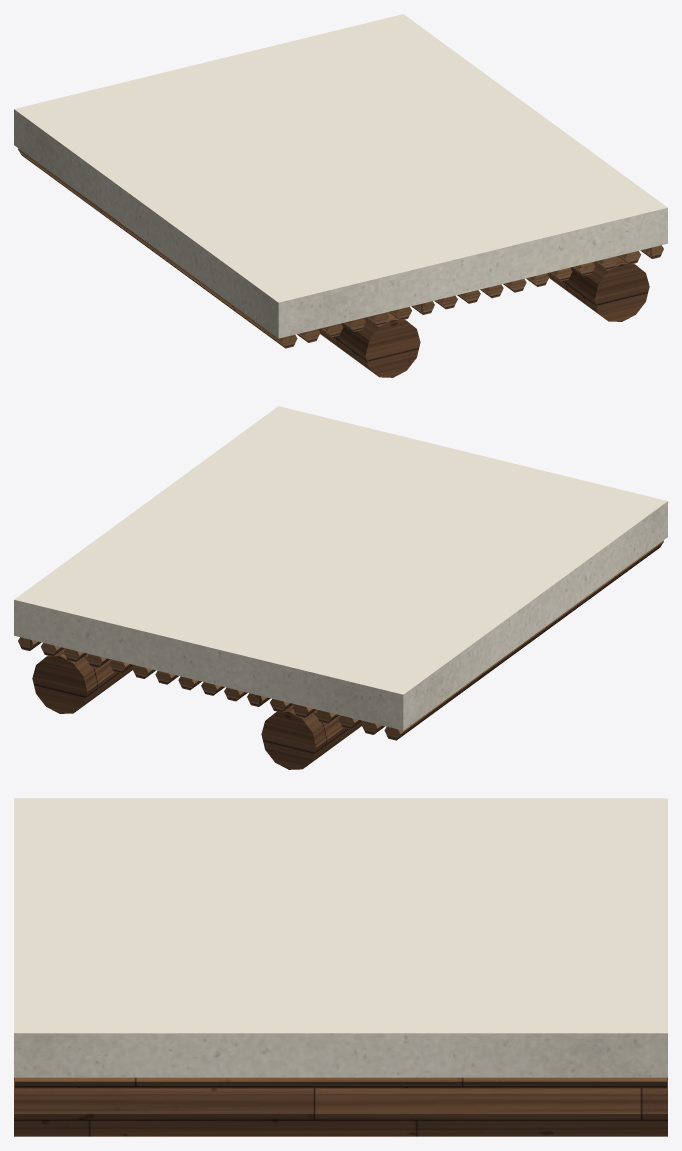
The model's file is m_ceiling_e0100.glb.
The picture shows the model from 3 angles, top to bottom: view 1: azimuth 30°, elevation 25°; view 2: azimuth 150°, elevation 25°; view 3: azimuth 270°, elevation 25°; orthographic projection. The views are drawn at different scales.
Parts seen in each view (by area): view 1: m_ceiling_e0100_plaster, m_ceiling_e0100_wood, m_ceiling_e0100_planks; view 2: m_ceiling_e0100_plaster, m_ceiling_e0100_wood, m_ceiling_e0100_planks; view 3: m_ceiling_e0100_plaster, m_ceiling_e0100_wood, m_ceiling_e0100_planks.
Boxes of the visible parts, x1=… form: m_ceiling_e0100_plaster: x1=14, y1=14, x2=667, y2=338; m_ceiling_e0100_wood: x1=318, y1=256, x2=649, y2=377; m_ceiling_e0100_planks: x1=18, y1=148, x2=663, y2=348; m_ceiling_e0100_plaster: x1=14, y1=406, x2=667, y2=730; m_ceiling_e0100_wood: x1=32, y1=648, x2=363, y2=769; m_ceiling_e0100_planks: x1=18, y1=540, x2=663, y2=740; m_ceiling_e0100_plaster: x1=14, y1=798, x2=667, y2=1077; m_ceiling_e0100_wood: x1=14, y1=1077, x2=667, y2=1136; m_ceiling_e0100_planks: x1=15, y1=1077, x2=666, y2=1088.
Bounding box in the file's own units: 1.7 × 0.43 × 2.
Materials: 3 (3 with a texture image).
